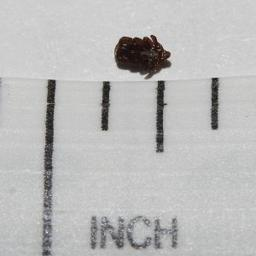Rhipicephalus sanguineus: (114, 34, 171, 79)
